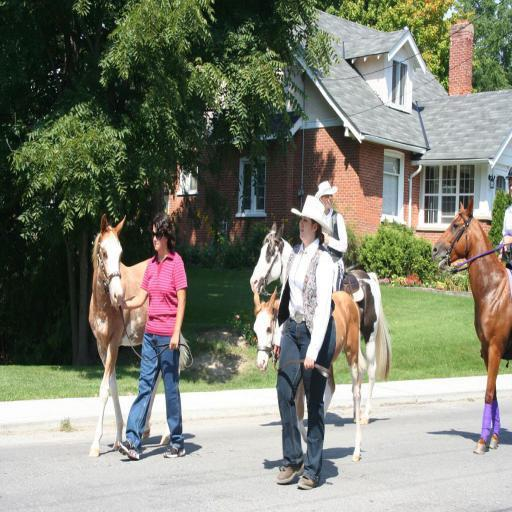horse: (251, 218, 393, 422), (88, 209, 190, 455), (430, 196, 512, 456), (253, 280, 370, 460)
